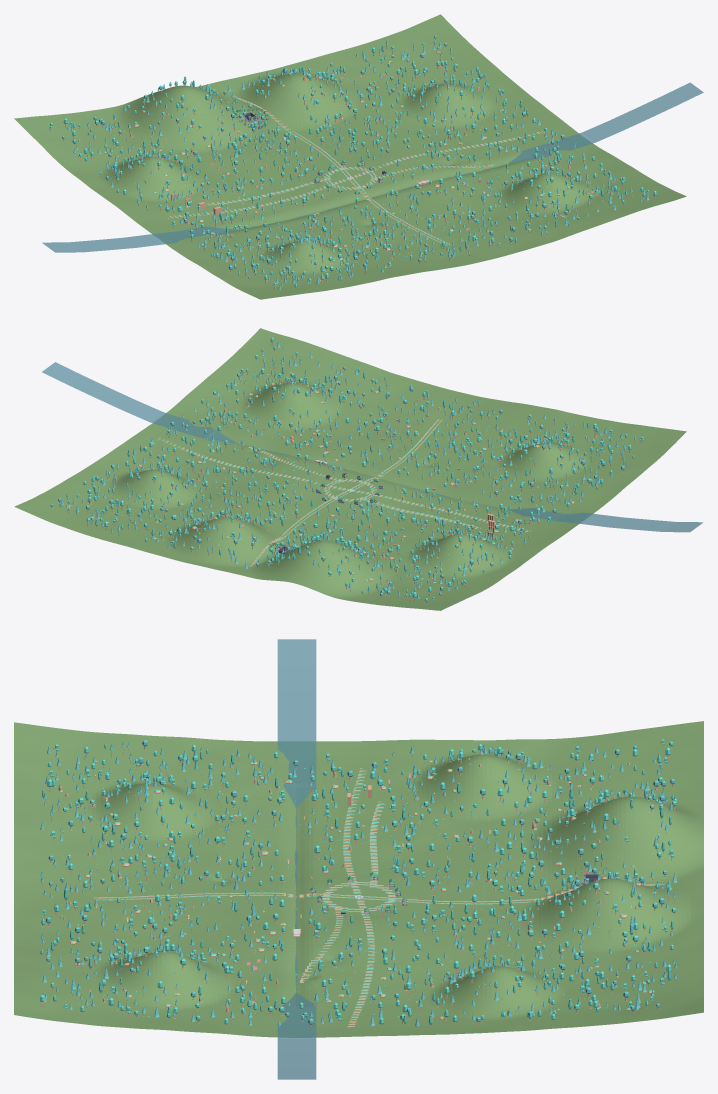
File: forest_world.glb
The picture shows the model from 3 angles, top to bottom: view 1: azimuth 30°, elevation 25°; view 2: azimuth 150°, elevation 25°; view 3: azimuth 270°, elevation 25°; orthographic projection. The views are drawn at different scales.
Visible parts, largest first — view 1: Terrain, RiverWater, KenneyRoads, KenneyTrees_1_3, KenneyTrees_1_0, KenneyTrees_3_2, KenneyTrees_0_0, KenneyTrees_1_2, KenneyTrees_2_2, KenneyTrees_0_2, KenneyTrees_3_3, KenneyTrees_2_3 (+7 smaller); view 2: Terrain, RiverWater, KenneyRoads, KenneyTrees_1_0, KenneyTrees_0_0, KenneyTrees_3_3, KenneyTrees_0_2, KenneyTrees_1_2, KenneyTrees_2_0, KenneyTrees_3_0, KenneyTrees_2_2, KenneyTrees_0_1 (+7 smaller); view 3: Terrain, RiverWater, KenneyRoads, KenneyTrees_1_0, KenneyTrees_1_2, KenneyTrees_1_3, KenneyTrees_2_3, KenneyTrees_0_0, KenneyTrees_2_2, KenneyTrees_3_2, KenneyTrees_3_3, KenneyTrees_0_2 (+7 smaller).
Boxes of the visible parts, x1,y1,x2,y2 form: Terrain: (14,14,686,299); RiverWater: (42,82,703,252); KenneyRoads: (168,95,544,246); KenneyTrees_1_3: (141,76,279,152); KenneyTrees_1_0: (317,220,455,273); KenneyTrees_3_2: (411,73,540,143); KenneyTrees_0_0: (224,234,352,290); KenneyTrees_1_2: (186,129,319,200); KenneyTrees_2_2: (309,103,442,162); KenneyTrees_0_2: (99,149,226,213); KenneyTrees_3_3: (356,35,480,104); KenneyTrees_2_3: (241,62,382,122); Terrain: (14,328,686,610); RiverWater: (42,362,703,532); KenneyRoads: (158,419,530,566); KenneyTrees_1_0: (424,399,556,463); KenneyTrees_0_0: (520,421,644,482); KenneyTrees_3_3: (50,476,180,535); KenneyTrees_0_2: (410,518,529,573); KenneyTrees_1_2: (293,500,439,555); KenneyTrees_2_0: (325,368,456,443); KenneyTrees_3_0: (226,337,345,397); KenneyTrees_2_2: (191,460,313,526); KenneyTrees_0_1: (473,459,603,526); Terrain: (14,721,703,1037); RiverWater: (277,639,316,1079); KenneyRoads: (93,768,664,1028); KenneyTrees_1_0: (40,794,187,893); KenneyTrees_1_2: (360,811,531,896); KenneyTrees_1_3: (529,789,677,894); KenneyTrees_2_3: (530,870,676,965); KenneyTrees_0_0: (42,740,187,813); KenneyTrees_2_2: (357,894,533,966); KenneyTrees_3_2: (370,956,533,1027); KenneyTrees_3_3: (531,955,677,1020); KenneyTrees_0_2: (361,744,532,821).
Size of the model in its own units: 1520 by 103 by 1000.
105 materials, 24 textured.
